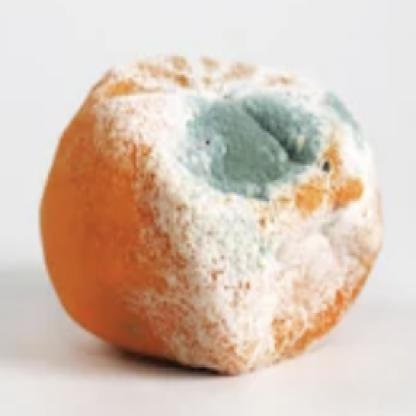rotten: (44, 55, 385, 379)
